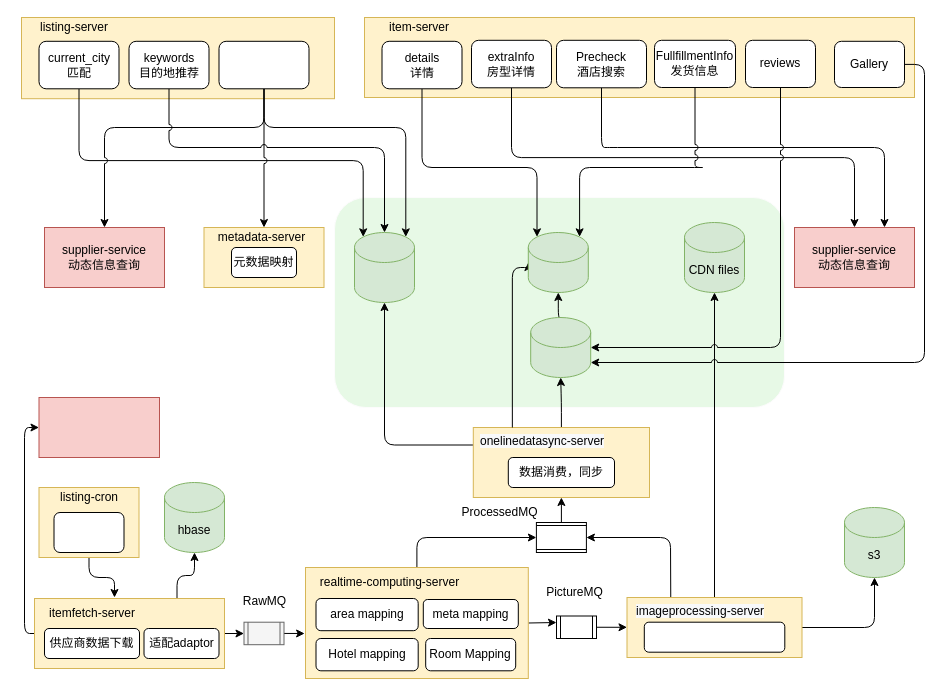
This 950x696 diagram has some shape labels left out. The centre of each missing label's shape, as x and y in pixels:
"cron定时任务管理" goes at (88,532).
"DB" goes at (560,347).
"ES" goes at (384,267).
"Redis" goes at (557,262).
"search 酒店搜索" goes at (263,64).
"supplier-service" goes at (99,427).
"图片下载、裁剪、上传" goes at (714,636).
